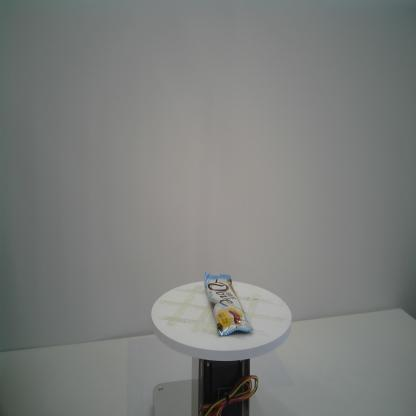Chocolate: (203, 272, 254, 336)
